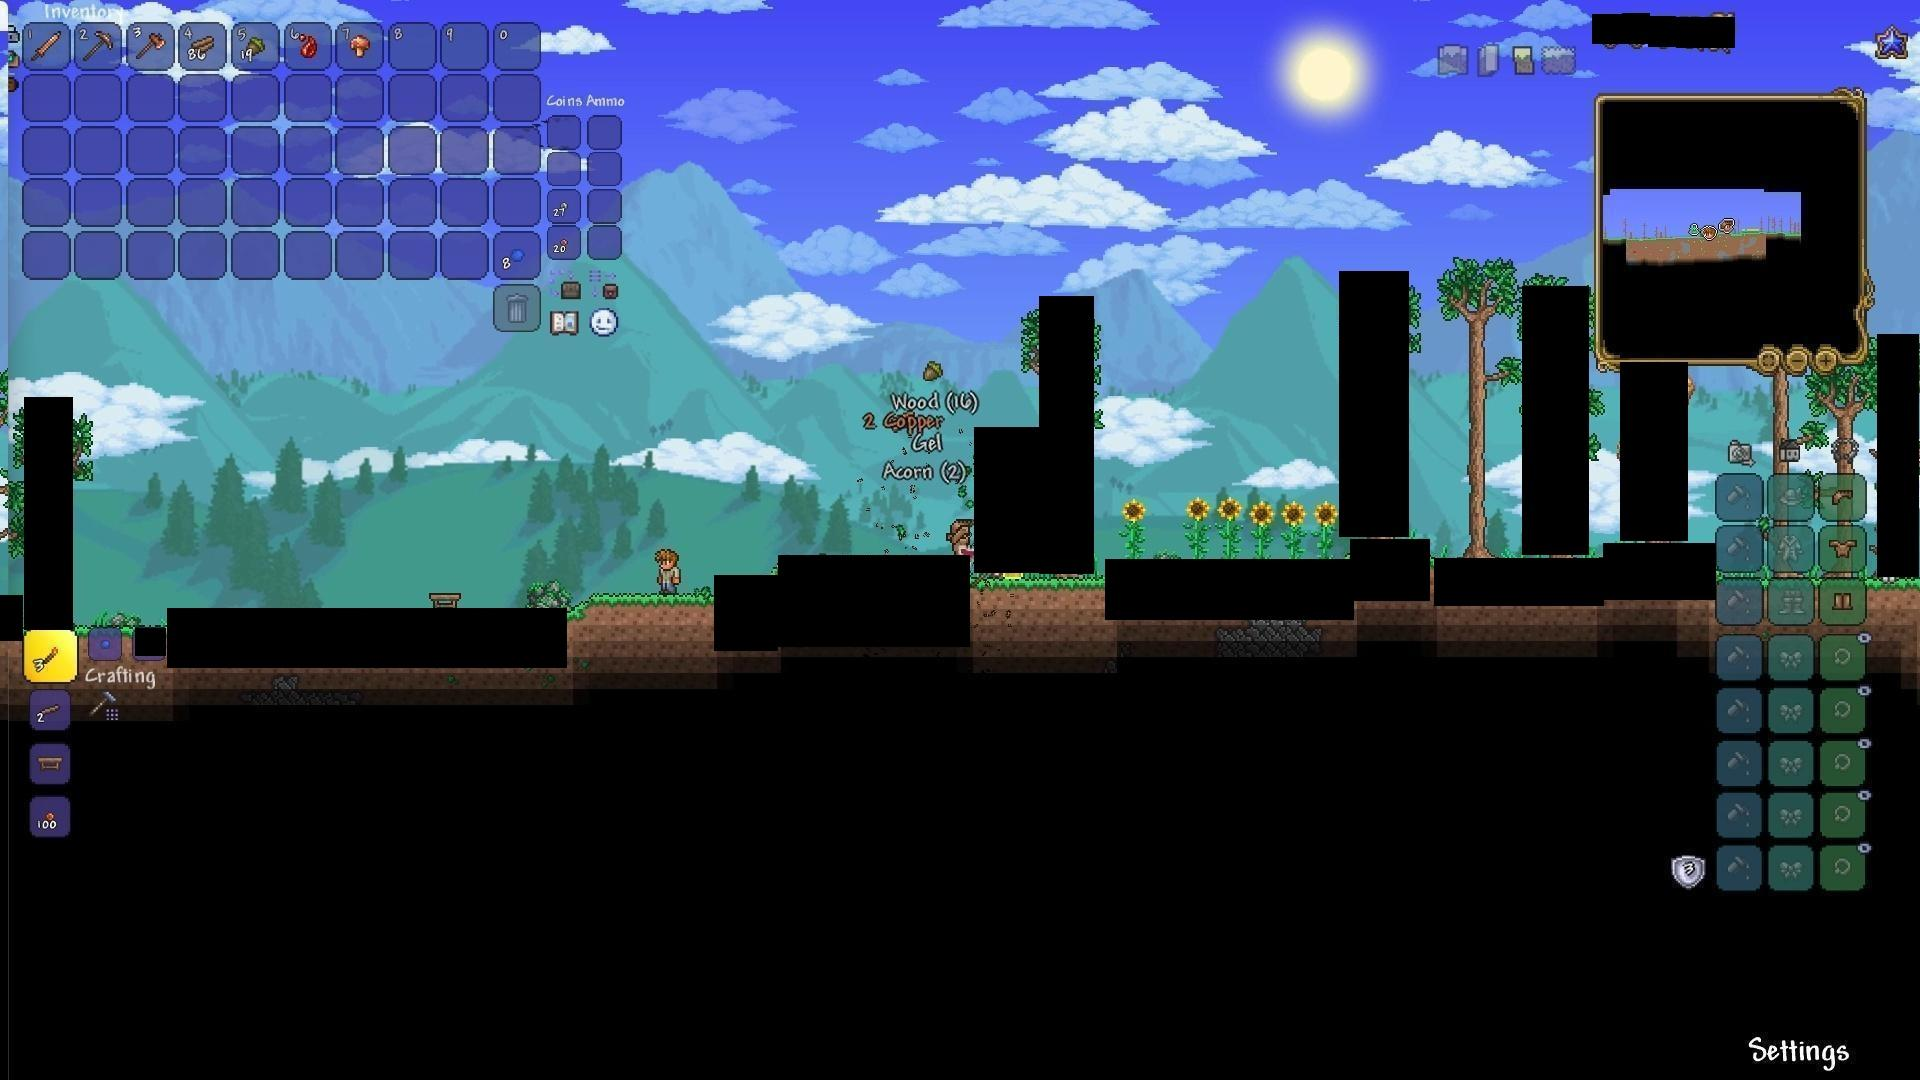breastplate: (1829, 539, 1855, 558)
dirt: (568, 591, 716, 654), (975, 576, 1106, 636)
helmet: (1829, 484, 1855, 508)
legs: (1832, 588, 1855, 615)
tree: (1440, 255, 1505, 556)
wood: (187, 32, 218, 59)
workbench: (422, 587, 463, 615), (32, 750, 69, 775)
